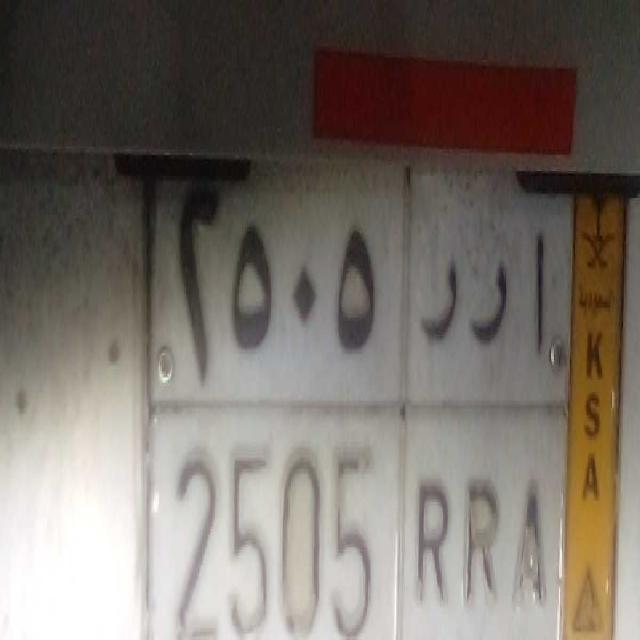license_plate: (140, 395, 562, 640)
